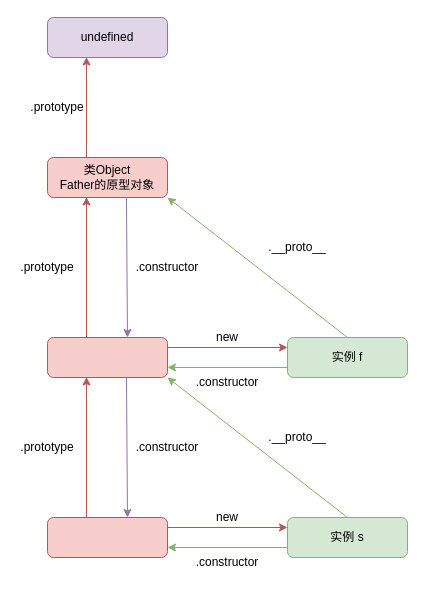
The diagram is 425 pixels wide and 595 high, and some of its shapes have lost their labels. Each missing label, with the centre of its shape:
"类Father Son的原型对象" goes at (107,357).
"类Son" goes at (107,537).
